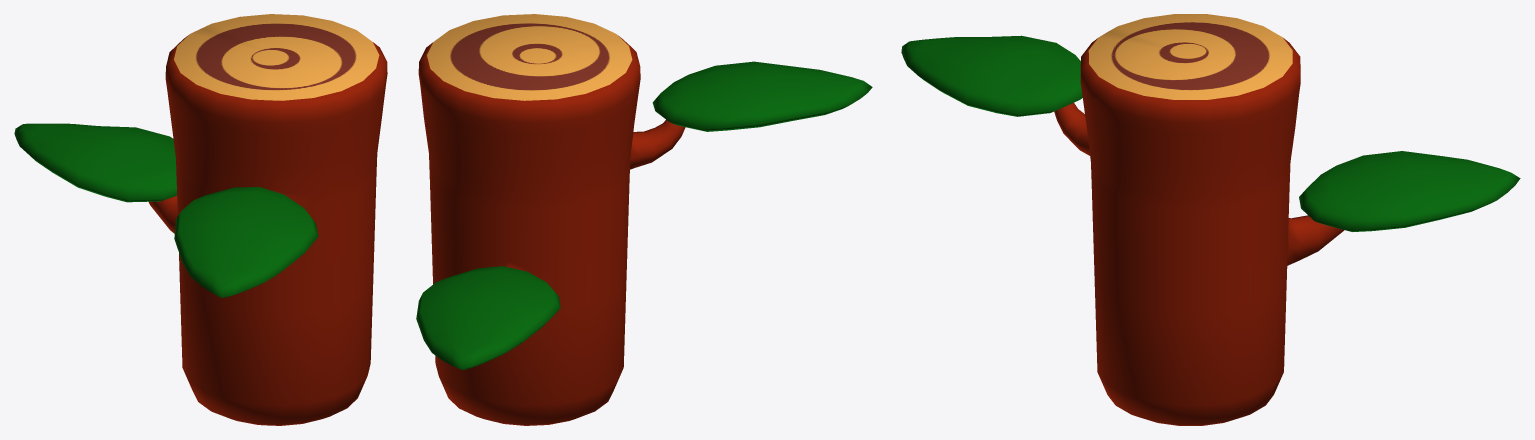
File: TrunkWithLeaves.fbx
3 renders of one model, left to right at view 1: azimuth 30°, elevation 25°; view 2: azimuth 150°, elevation 25°; view 3: azimuth 270°, elevation 25°, orthographic.
Visible parts, largest first — view 1: Trunk1, Trunk2, Trunk3; view 2: Trunk1, Trunk2, Trunk3; view 3: Trunk1, Trunk3, Trunk2.
Boxes of the visible parts, bbox=[...] form: Trunk1: bbox=[148, 14, 387, 425]; Trunk2: bbox=[174, 187, 318, 297]; Trunk3: bbox=[14, 123, 176, 202]; Trunk1: bbox=[418, 14, 685, 425]; Trunk2: bbox=[652, 61, 872, 131]; Trunk3: bbox=[416, 266, 560, 370]; Trunk1: bbox=[1054, 14, 1344, 425]; Trunk3: bbox=[1299, 151, 1520, 231]; Trunk2: bbox=[901, 35, 1082, 116].
Size of the model in its own units: 3.73 by 4.08 by 6.69.
